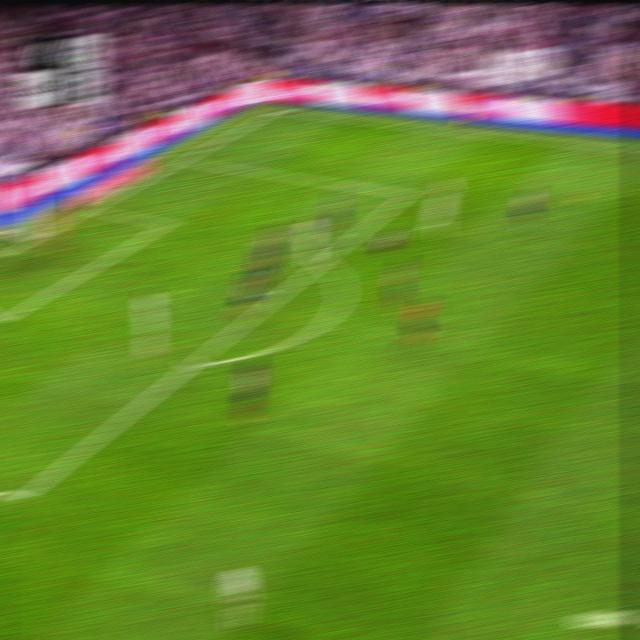bigarea_bottom_inner: (12, 482, 35, 511)
bigarea_top_inner: (397, 184, 415, 202)
bigarea_top_outter: (176, 151, 194, 165)
bottom_arc_area_intersection: (182, 349, 205, 375)
corner: (266, 105, 286, 112)
smallarea_top_inner: (158, 214, 175, 230)
top_arc_area_intersection: (312, 249, 332, 272)
